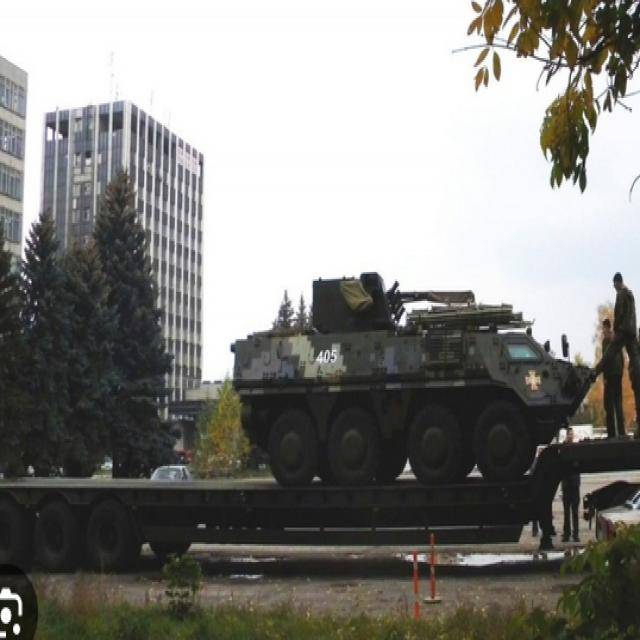MIL_APC: (235, 272, 599, 504)
